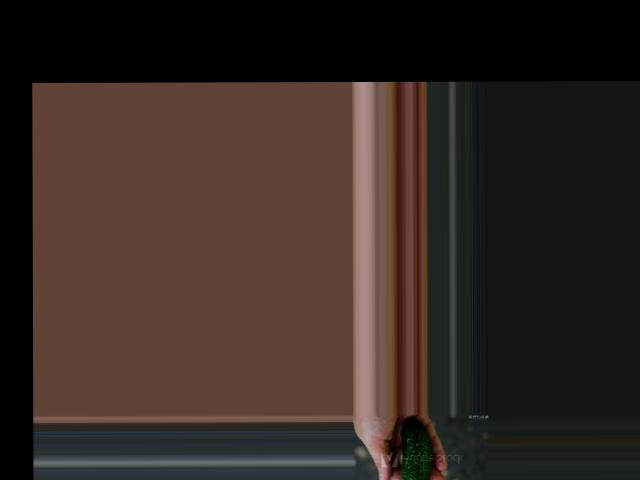cucumber: (401, 418, 433, 480)
